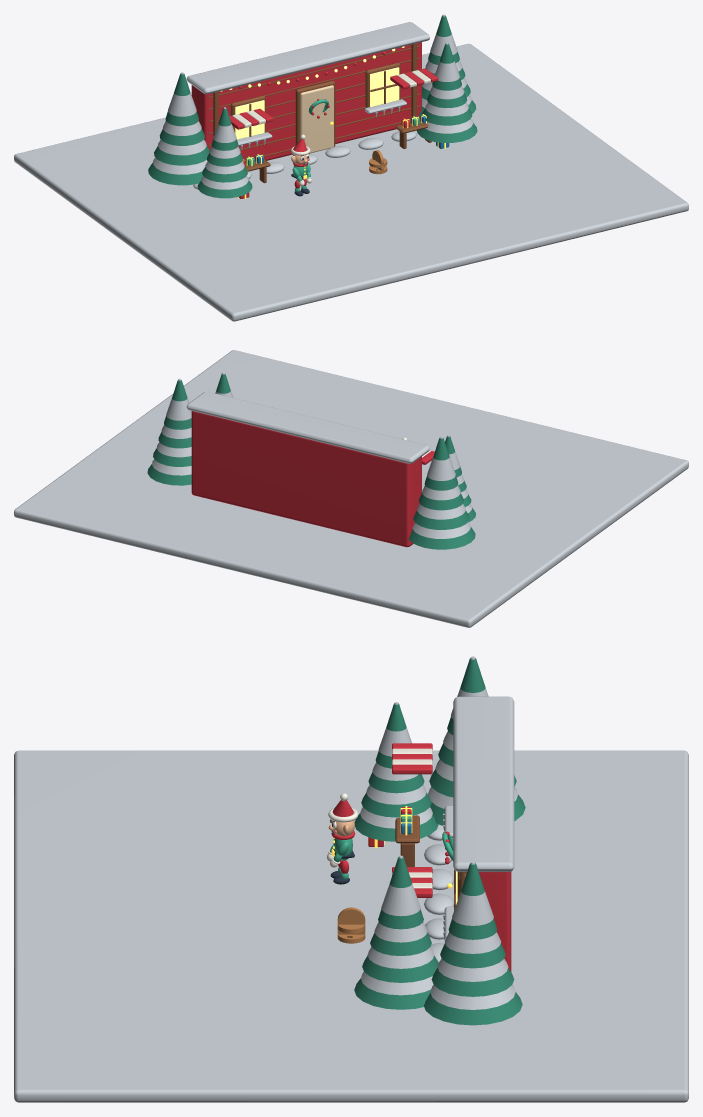
The model's file is chapter-18.glb.
3 views of the same model, one above another, from view 1: azimuth 30°, elevation 25°; view 2: azimuth 150°, elevation 25°; view 3: azimuth 270°, elevation 25° (orthographic). The views are drawn at different scales.
Visible parts, largest first — view 1: Schneeboden, Werkstatt, Schneegesims, Wichteltür, Warmes Fenster.001, Tannenzweig.008, Tannenzweig.009, Türrahmen, Tannenzweig.004, Tannenzweig.011, Warmes Fenster, Schnee.011 (+6 smaller); view 2: Schneeboden, Werkstatt, Schneegesims, Tannenzweig.008, Tannenzweig.009, Tannenzweig.011, Schnee.008, Schnee.011, Tannenzweig.015, Tannenzweig.012, Tannenzweig.010, Schnee.009 (+1 smaller); view 3: Schneeboden, Schneegesims, Werkstatt, Tannenzweig.012, Tannenzweig.013, Tannenzweig.015, Schnee.012, Tannenzweig.005, Tannenzweig.004, Schnee.015, Tannenzweig.007, Schnee.013 (+12 smaller).
Boxes of the visible parts, x1,y1,x2,y2 form: Schneeboden: (14,43,688,321); Werkstatt: (191,42,421,162); Schneegesims: (186,22,429,94); Wichteltür: (300,85,333,153); Warmes Fenster.001: (370,67,399,106); Tannenzweig.008: (148,163,202,185); Tannenzweig.009: (154,146,209,165); Türrahmen: (295,81,335,146); Tannenzweig.004: (417,122,477,142); Tannenzweig.011: (165,73,198,126); Warmes Fenster: (235,100,264,139); Schnee.011: (168,72,196,116); Schneeboden: (14,350,688,627); Werkstatt: (191,411,421,547); Schneegesims: (186,391,429,463); Tannenzweig.008: (408,527,475,549); Tannenzweig.009: (413,510,469,529); Tannenzweig.011: (424,437,458,490); Schnee.008: (412,522,470,538); Schnee.011: (427,436,455,480); Tannenzweig.015: (164,380,191,429); Tannenzweig.012: (147,464,191,485); Tannenzweig.010: (419,493,463,510); Schnee.009: (417,504,465,519); Schneeboden: (14,750,688,1102); Schneegesims: (453,696,514,871); Werkstatt: (466,871,511,971); Tannenzweig.012: (424,992,522,1025); Tannenzweig.013: (431,968,514,996); Tannenzweig.015: (448,863,497,939); Schnee.012: (430,985,515,1009); Tannenzweig.005: (362,955,438,982); Tannenzweig.004: (354,978,430,1009); Schnee.015: (452,861,493,925); Tannenzweig.007: (378,857,423,929); Schnee.013: (437,959,508,981).
Size of the model in its own units: 18 by 4.39 by 15.
